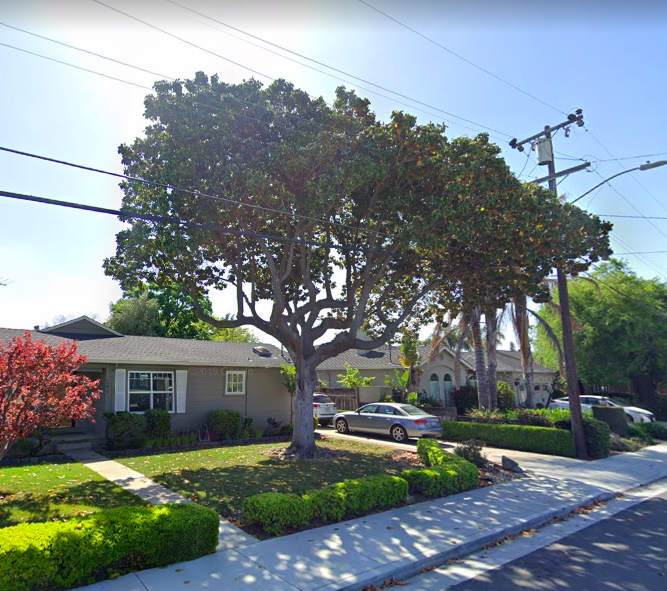tree: (100, 69, 615, 458)
